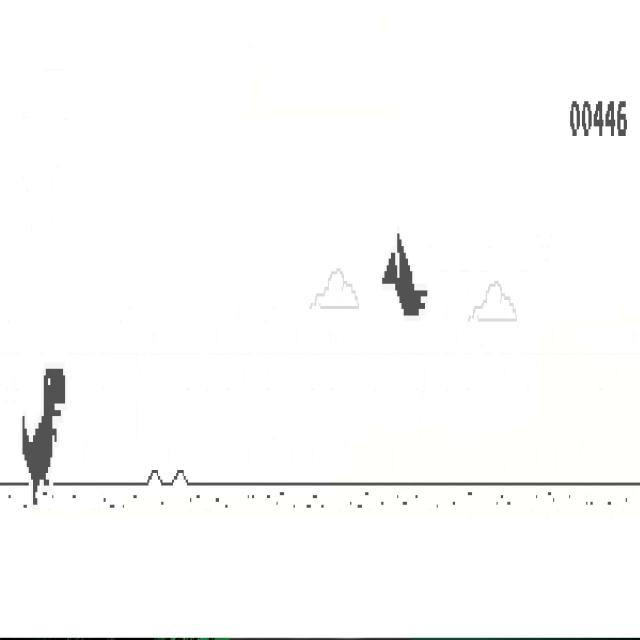dino: (21, 368, 66, 507)
ptero: (381, 232, 428, 318)
